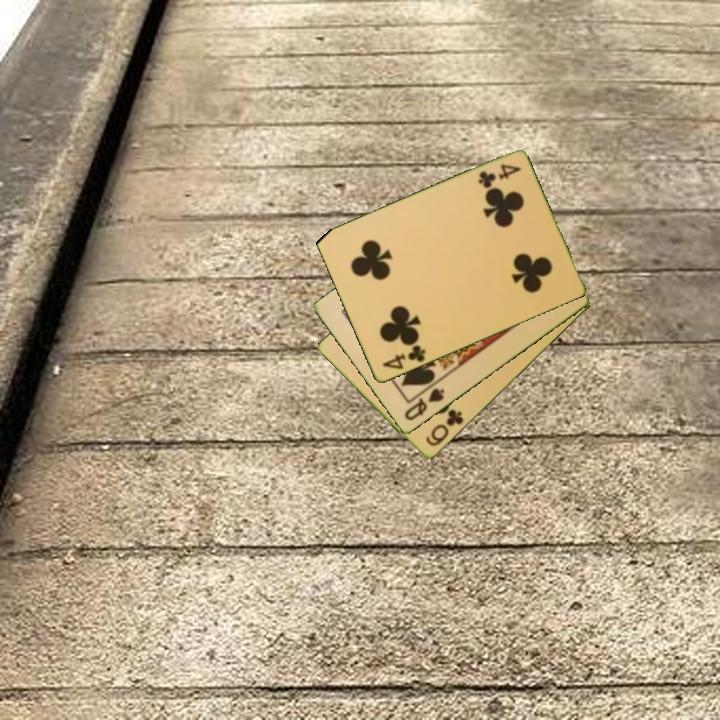4c: (379, 342, 428, 373), (474, 161, 524, 191)
6c: (422, 406, 467, 450)
Qs: (401, 385, 448, 424)
